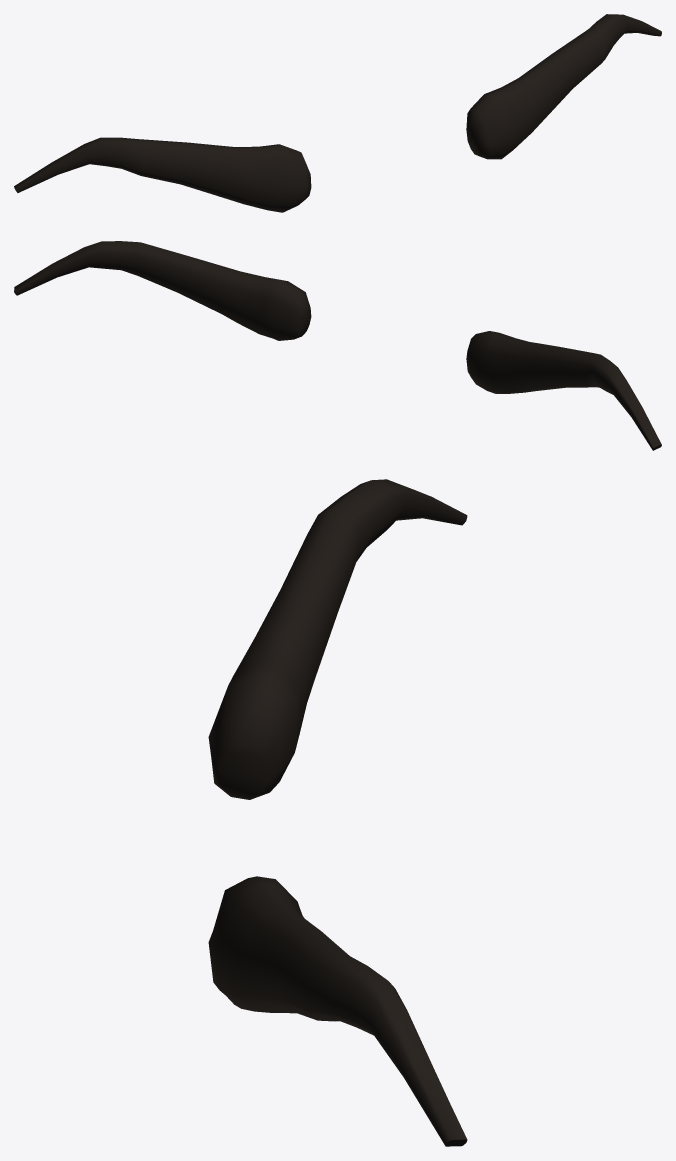
The model's file is Eyebrows_12_01.fbx.
3 renders of one model, top to bottom at view 1: azimuth 30°, elevation 25°; view 2: azimuth 150°, elevation 25°; view 3: azimuth 270°, elevation 25°, orthographic. The views are drawn at different scales.
Visible parts, largest first — view 1: Eyebrows_12_01; view 2: Eyebrows_12_01; view 3: Eyebrows_12_01.
Boxes of the visible parts, left/top/right/bottom form: Eyebrows_12_01: left=14, top=14, right=661, bottom=212; Eyebrows_12_01: left=14, top=241, right=661, bottom=450; Eyebrows_12_01: left=208, top=479, right=467, bottom=1146.
Size of the model in its own units: 19.63 by 2.48 by 3.4.
